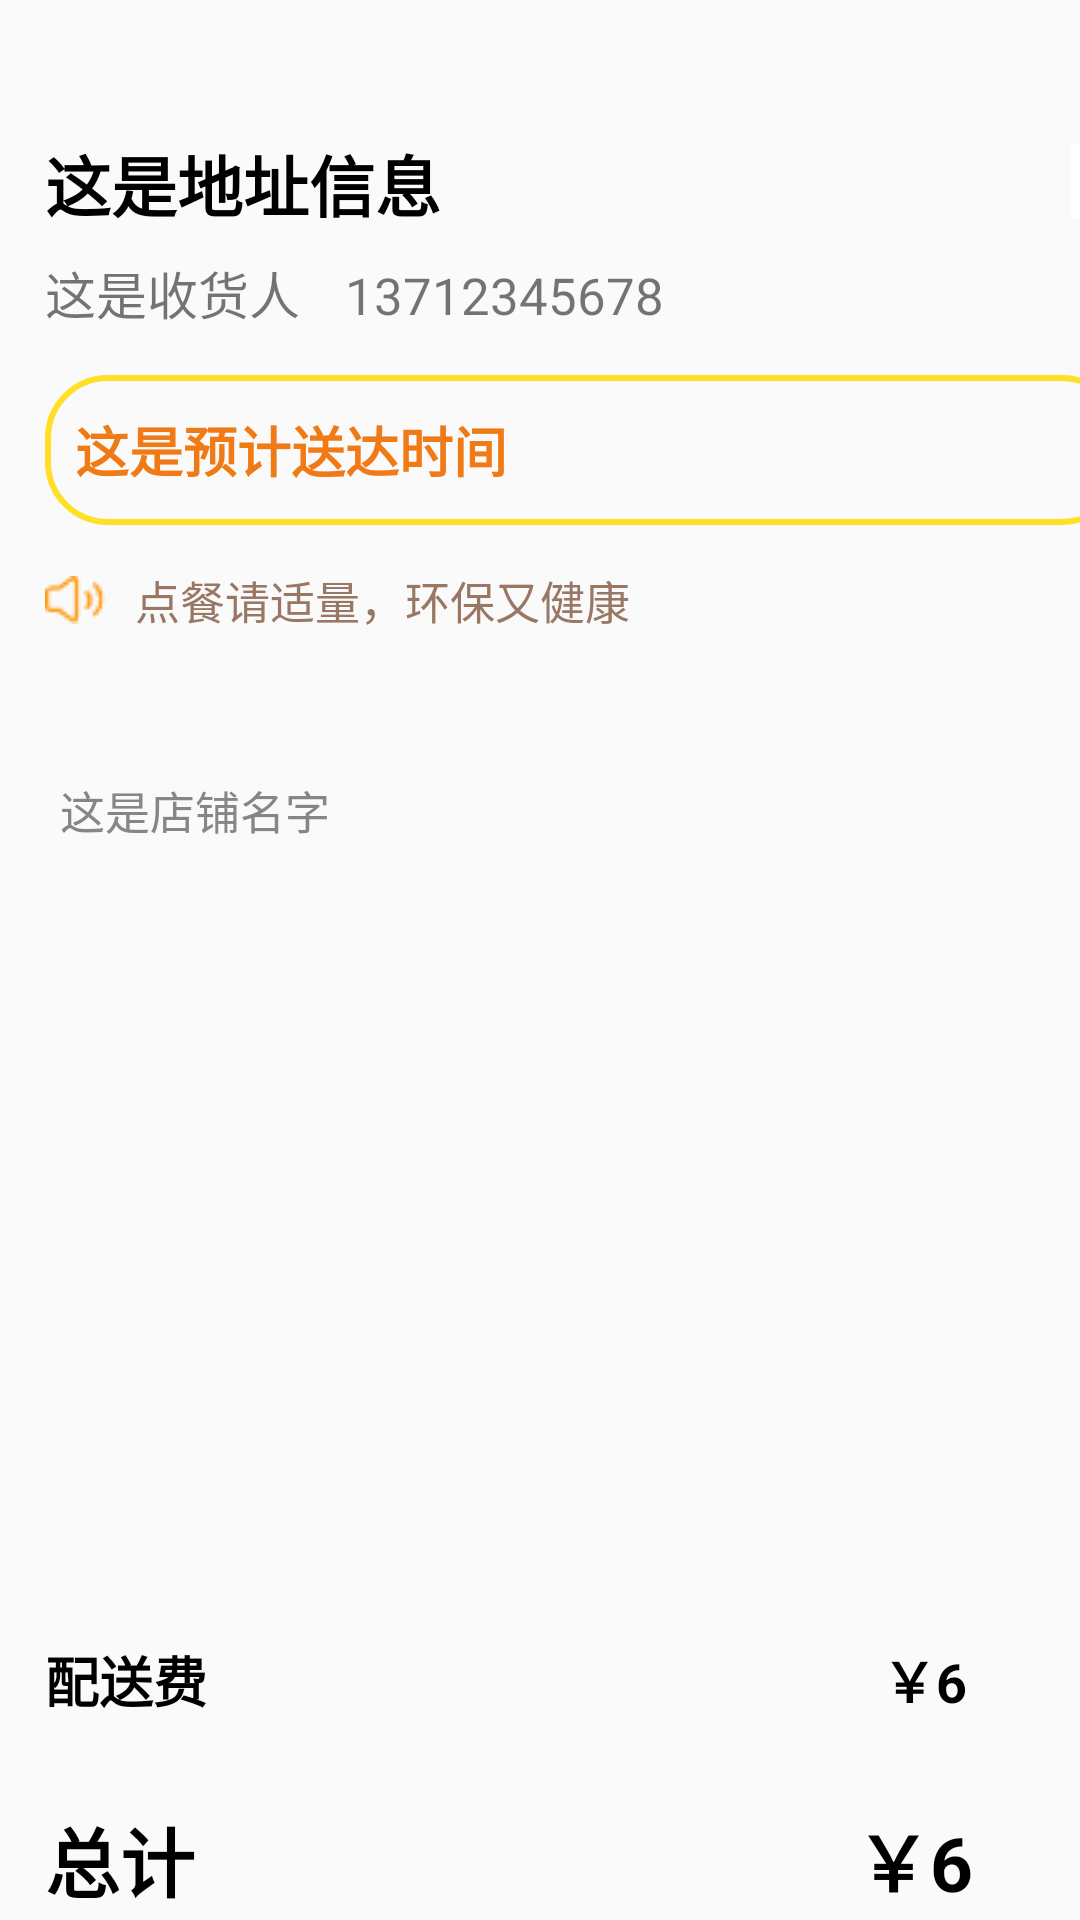

Screen size 1080*1920. Icon name, then its center in pixels as (x,y):
laba: (75,600)
